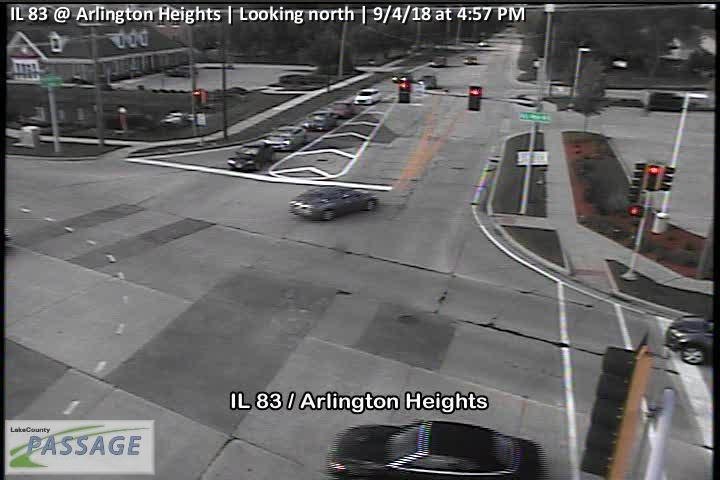Sedan: (327, 419, 543, 480), (289, 187, 380, 219), (226, 140, 274, 172), (267, 125, 306, 154), (305, 110, 338, 133), (329, 100, 357, 119), (354, 88, 382, 104), (165, 65, 198, 78)
